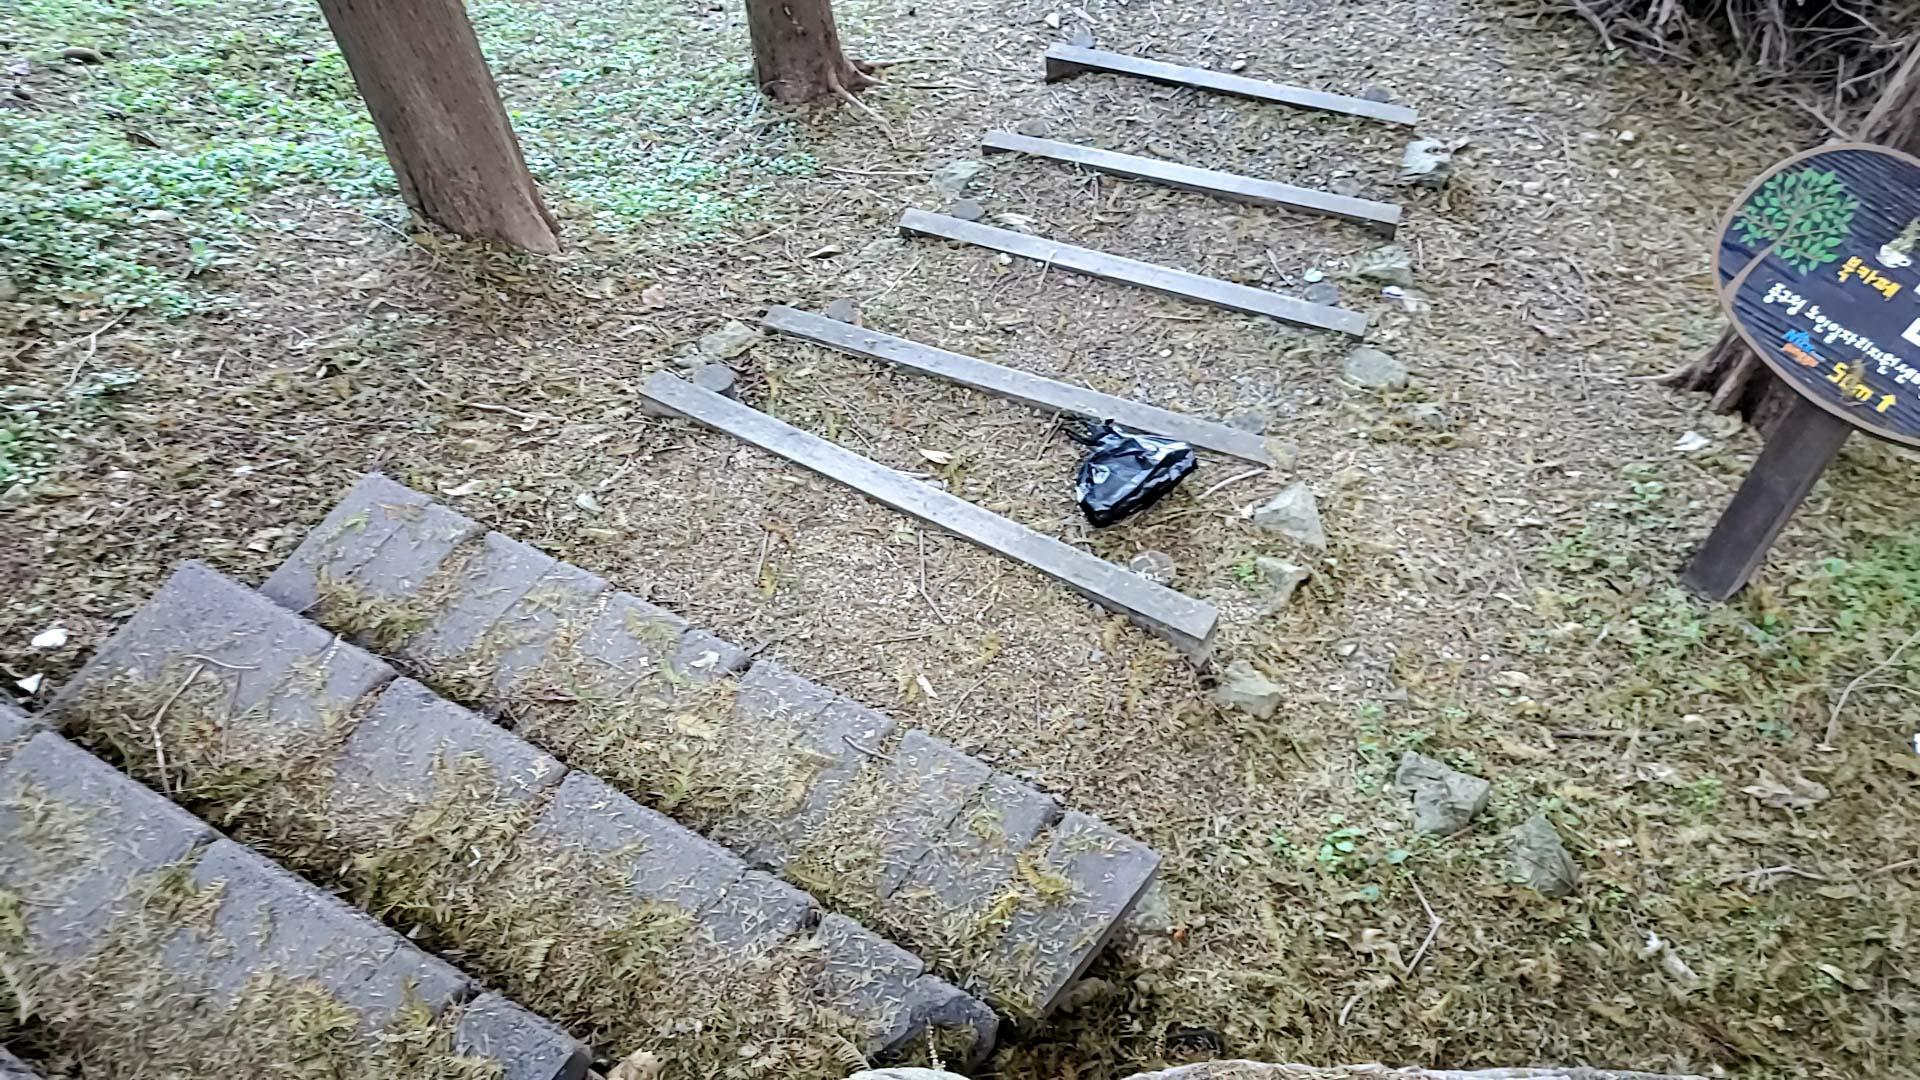black_bag: (1046, 400, 1203, 535)
